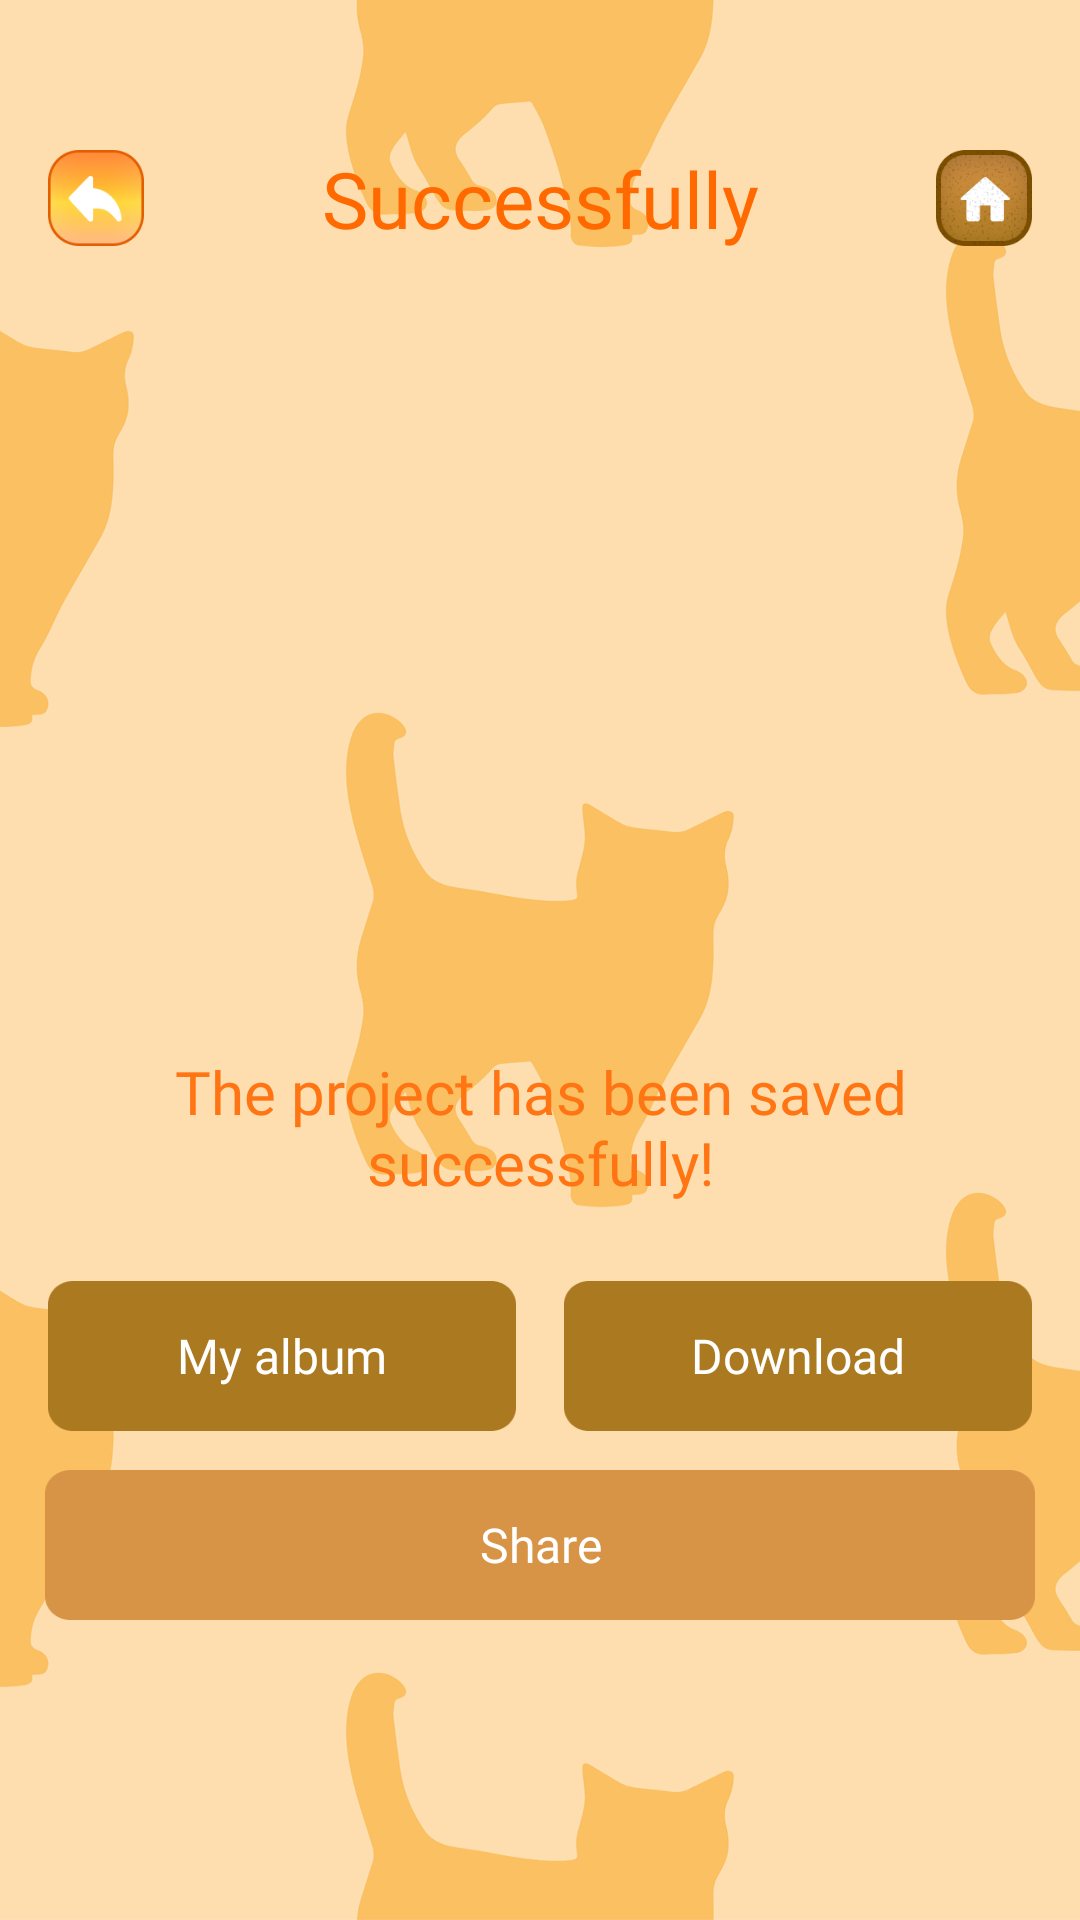

Named icons in this screenshot (1080w x 1920h) and their bounding boxes, (x1, y1, x2, y2):
back app: (48, 150, 144, 246)
imv home: (936, 150, 1032, 246)
